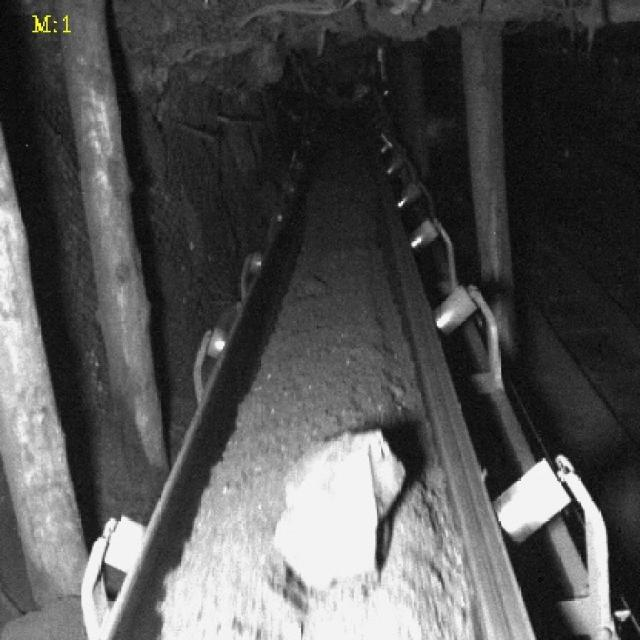large_sized_coal: (274, 428, 404, 590)
